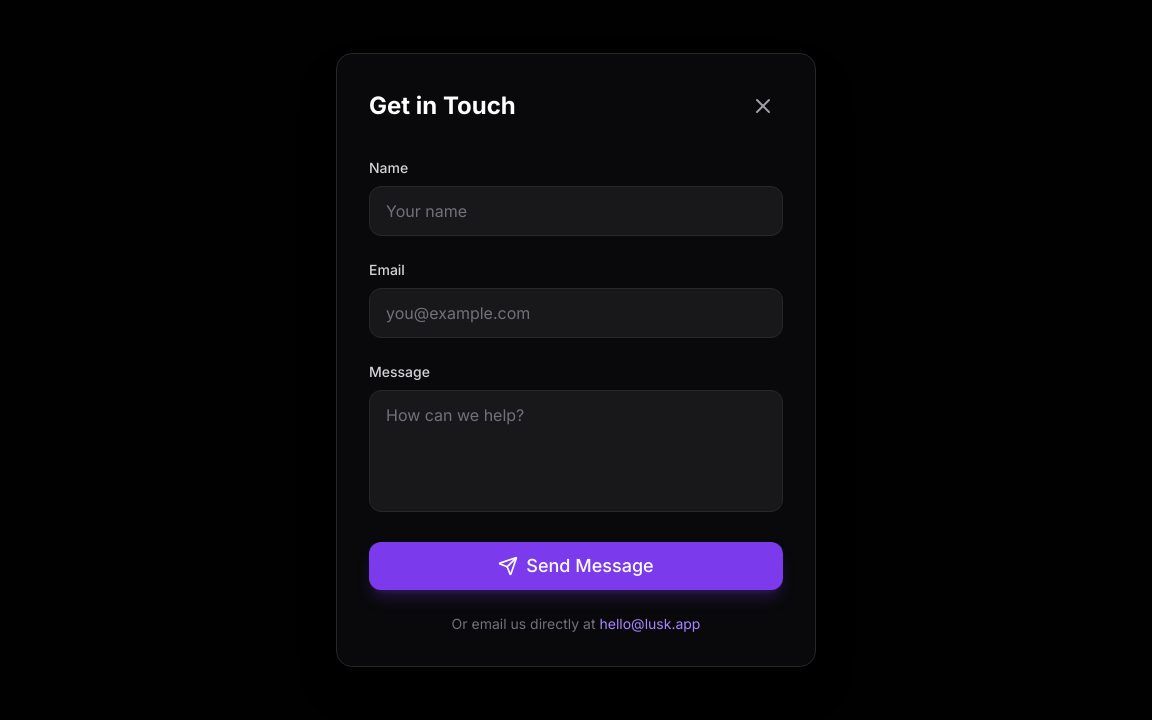
ContactModal › shows error message on submission failure
The width and height of the screenshot is (1152, 720).
Type "Test User" into the field labelled "Name" at x=576, y=211, box [369,186,783,236]
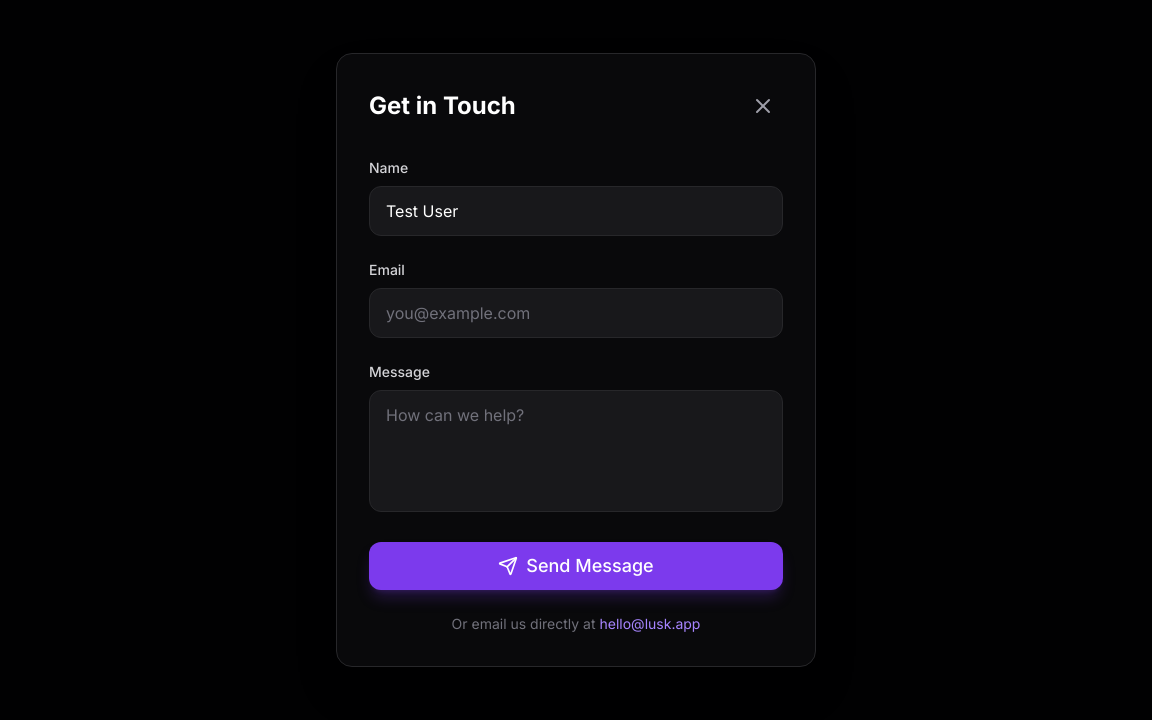
Type "test@example.com" into the field labelled "Email" at x=576, y=313, box [369,288,783,338]
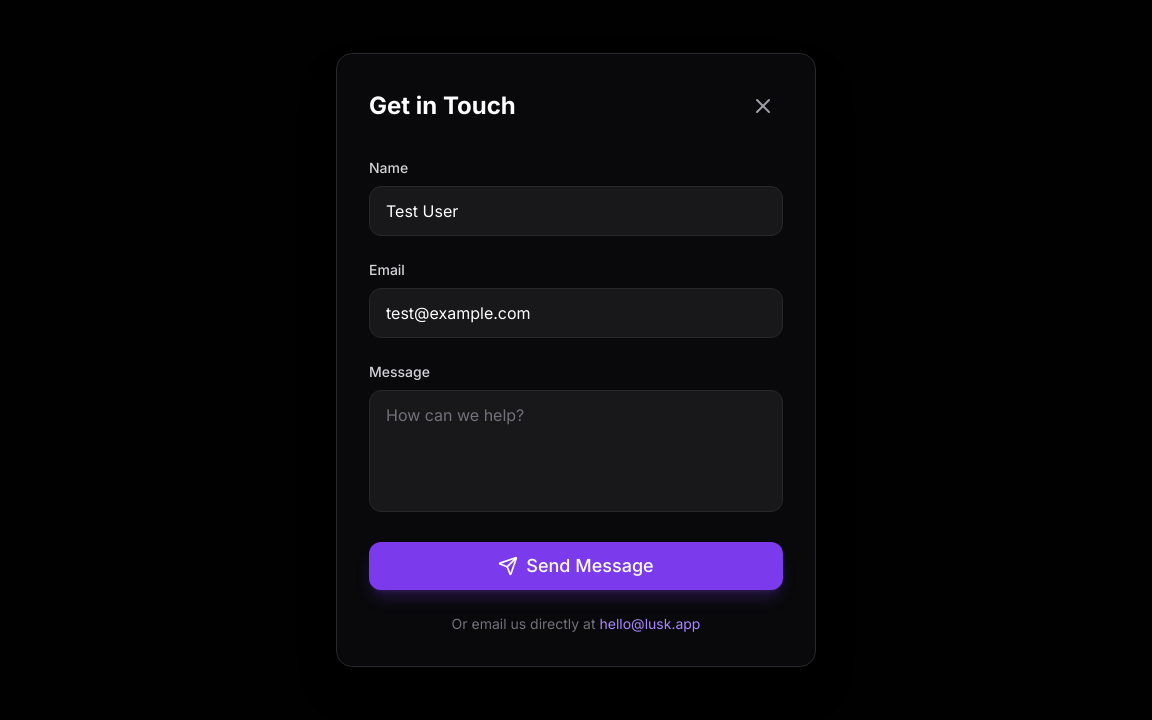
Type "Test message" into the text box labelled "Message" at x=576, y=451, box [369,390,783,512]
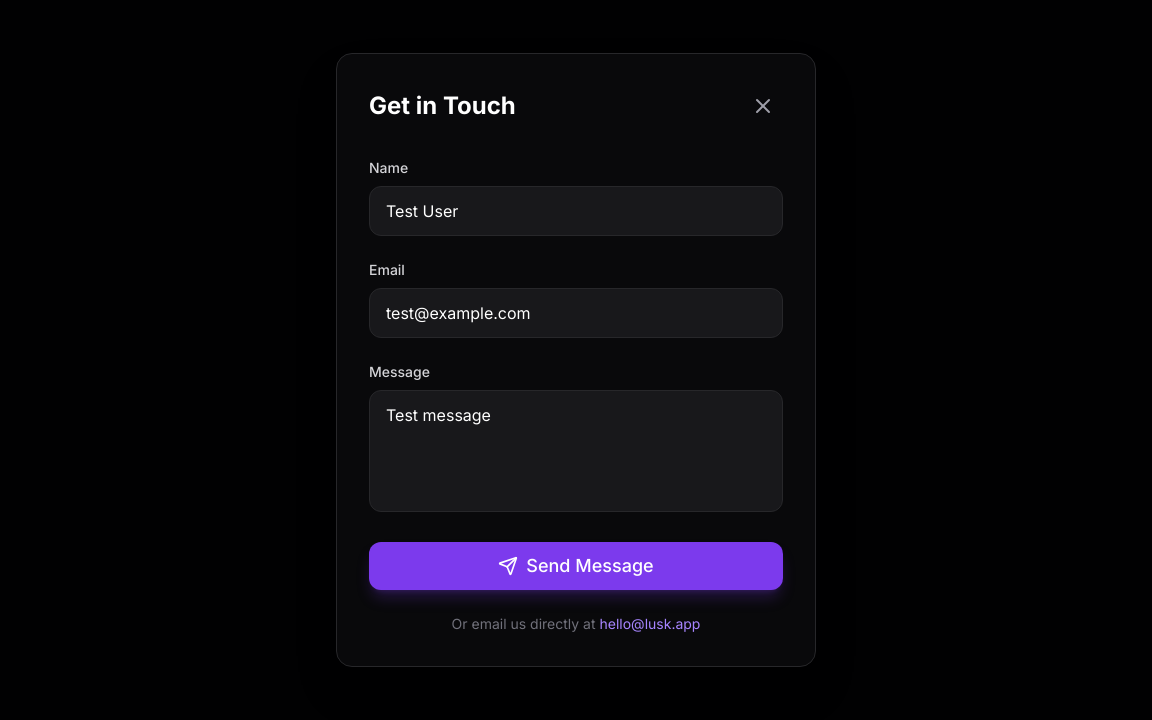
Click the button "Send Message" at x=576, y=566, box [369,542,783,590]
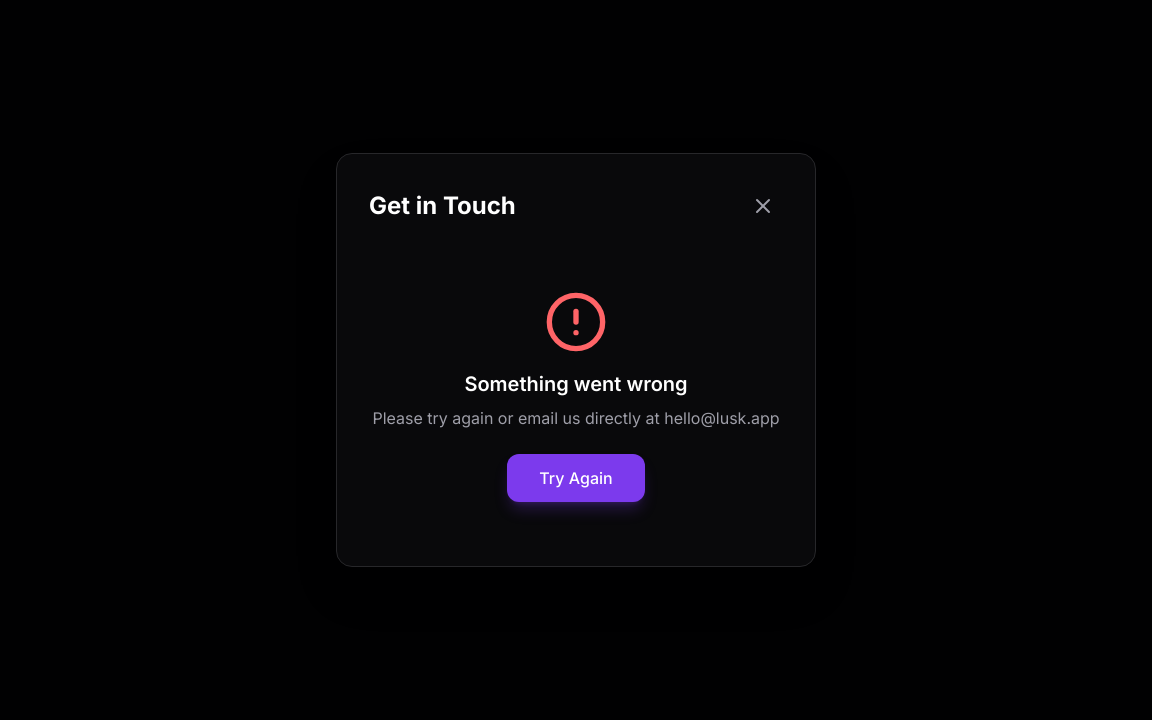
expect the heading "Something went wrong" is shown: met, box [464,372,688,396]
